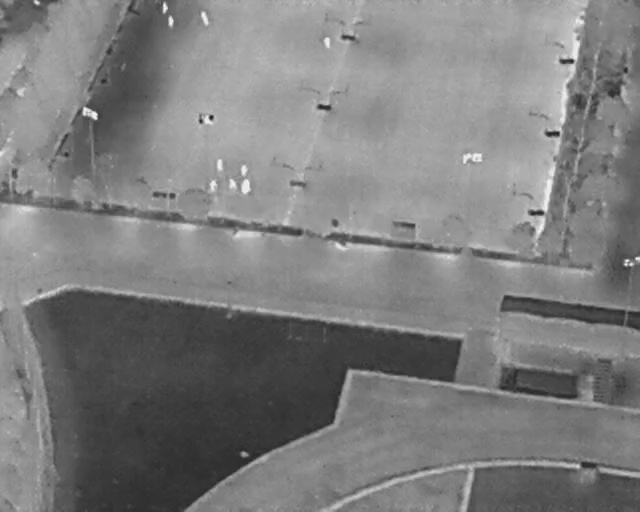Person: (240, 178, 251, 195), (199, 10, 210, 26), (228, 178, 238, 193), (209, 179, 218, 194), (216, 159, 223, 172), (241, 164, 248, 177), (324, 35, 331, 48), (162, 2, 169, 14), (168, 16, 174, 28)
